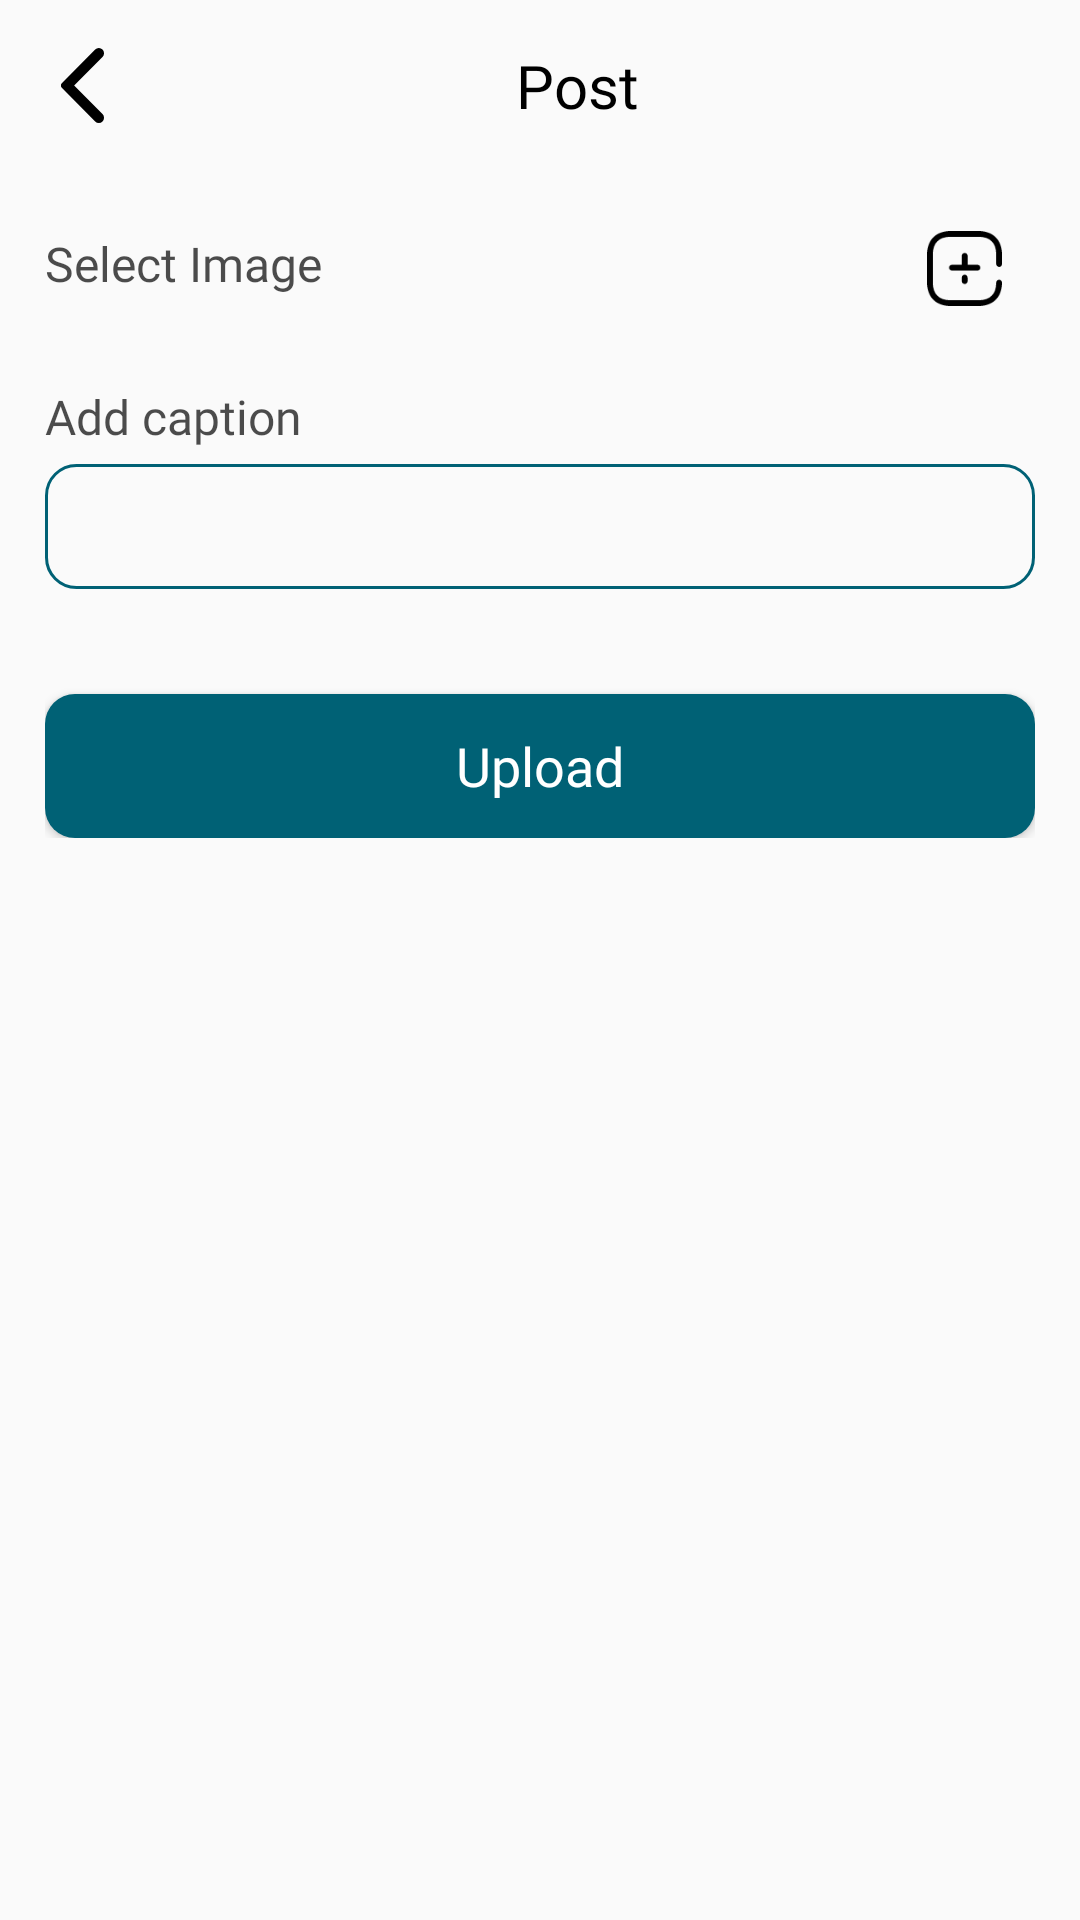

Named icons in this screenshot (1080px×1920px) and their bounding boxes, (x1, y1, x2, y2):
back: (61, 48, 104, 123)
Post: (927, 231, 1002, 306)
